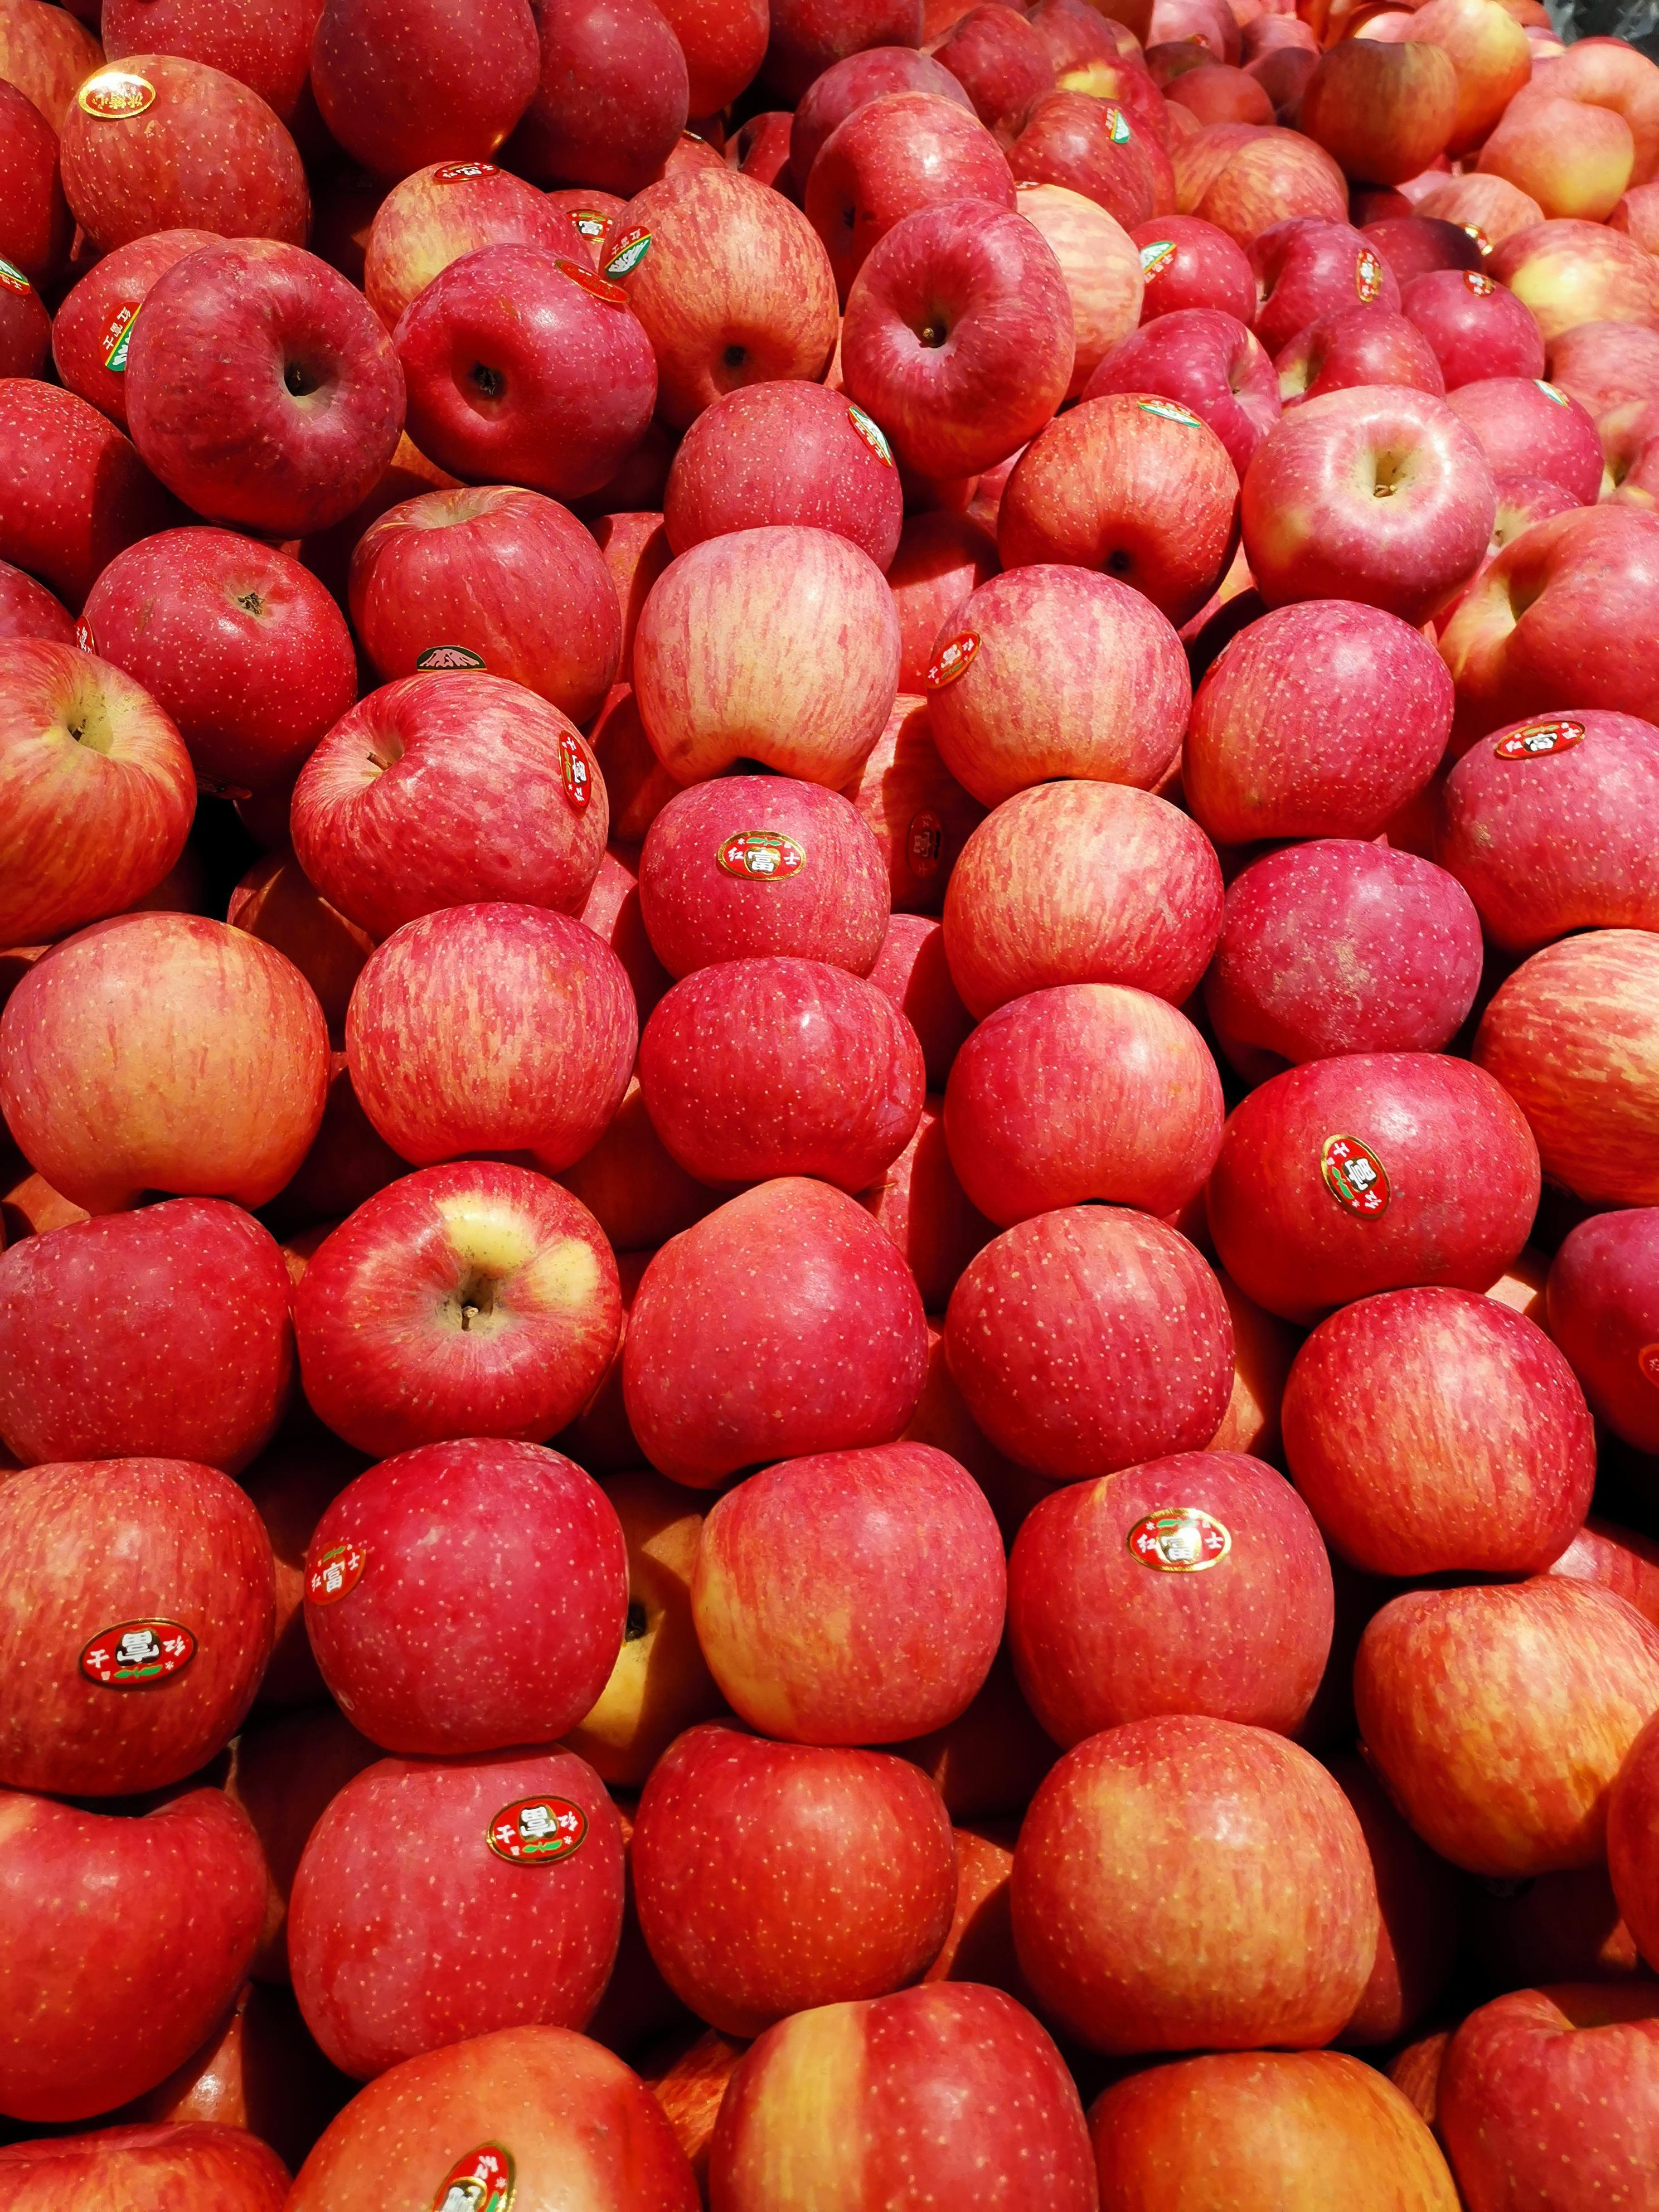apple: (1007, 1717, 1398, 2055), (0, 1447, 298, 1808), (298, 1742, 627, 2066), (5, 906, 340, 1224), (301, 1442, 629, 1766), (284, 1148, 627, 1454), (685, 1444, 1014, 1752), (1349, 1557, 1656, 1885), (624, 1719, 955, 2020), (1274, 1287, 1601, 1587), (620, 1174, 946, 1470), (1012, 1453, 1335, 1740), (110, 237, 413, 538), (1211, 1055, 1551, 1317), (0, 1789, 267, 2121), (704, 1984, 1100, 2203), (286, 665, 610, 932), (335, 895, 633, 1167), (277, 2026, 688, 2212), (7, 1197, 284, 1470), (948, 1207, 1229, 1472), (75, 524, 361, 779), (633, 963, 943, 1197), (633, 531, 904, 796), (835, 218, 1087, 493), (1182, 590, 1457, 841), (389, 249, 657, 500), (938, 989, 1223, 1223), (345, 474, 626, 711), (0, 648, 209, 953), (938, 784, 1220, 1008), (988, 390, 1251, 624), (1209, 834, 1483, 1055), (608, 167, 849, 418), (1086, 2047, 1462, 2205), (931, 573, 1190, 796), (1232, 388, 1490, 611), (626, 770, 890, 977), (59, 51, 312, 251), (1443, 1979, 1659, 2212), (1446, 709, 1659, 944), (669, 380, 906, 578), (1446, 507, 1659, 725), (1483, 934, 1659, 1193), (798, 92, 1028, 282), (317, 16, 551, 172)
